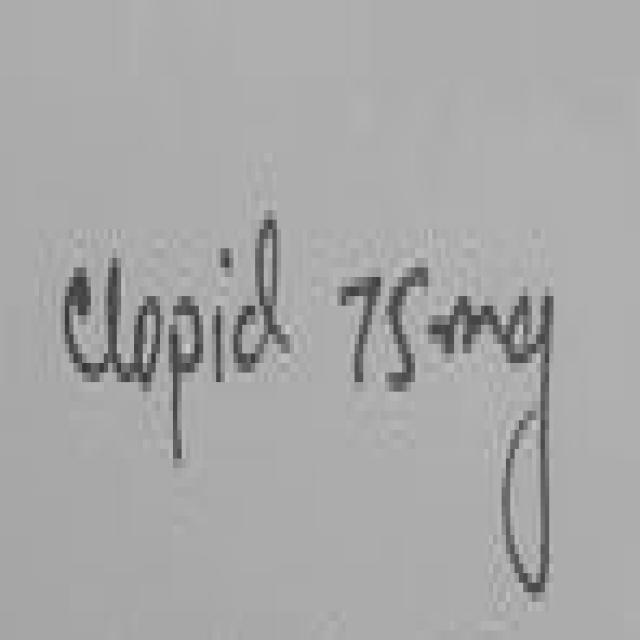5: (389, 267, 432, 387)
7: (342, 277, 381, 382)
C: (65, 267, 108, 382)
d: (238, 220, 294, 373)
g: (506, 293, 554, 602)
i: (216, 315, 225, 377), (221, 248, 234, 277)
l: (99, 258, 130, 386)
m: (427, 296, 510, 359)
o: (134, 296, 160, 382)
p: (173, 296, 203, 468)
